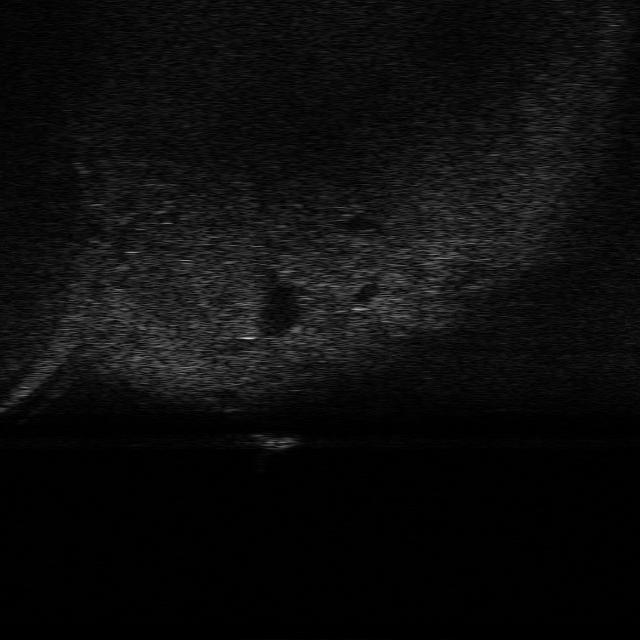cube: (248, 431, 300, 452)
